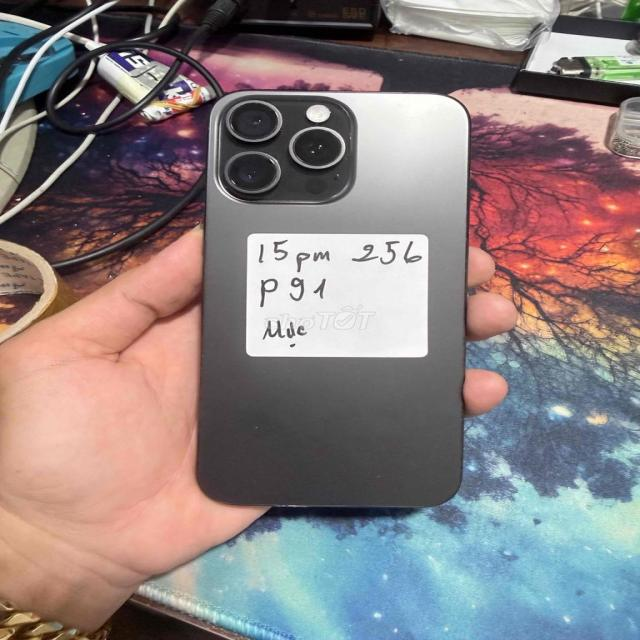gen_15: (187, 74, 484, 530)
